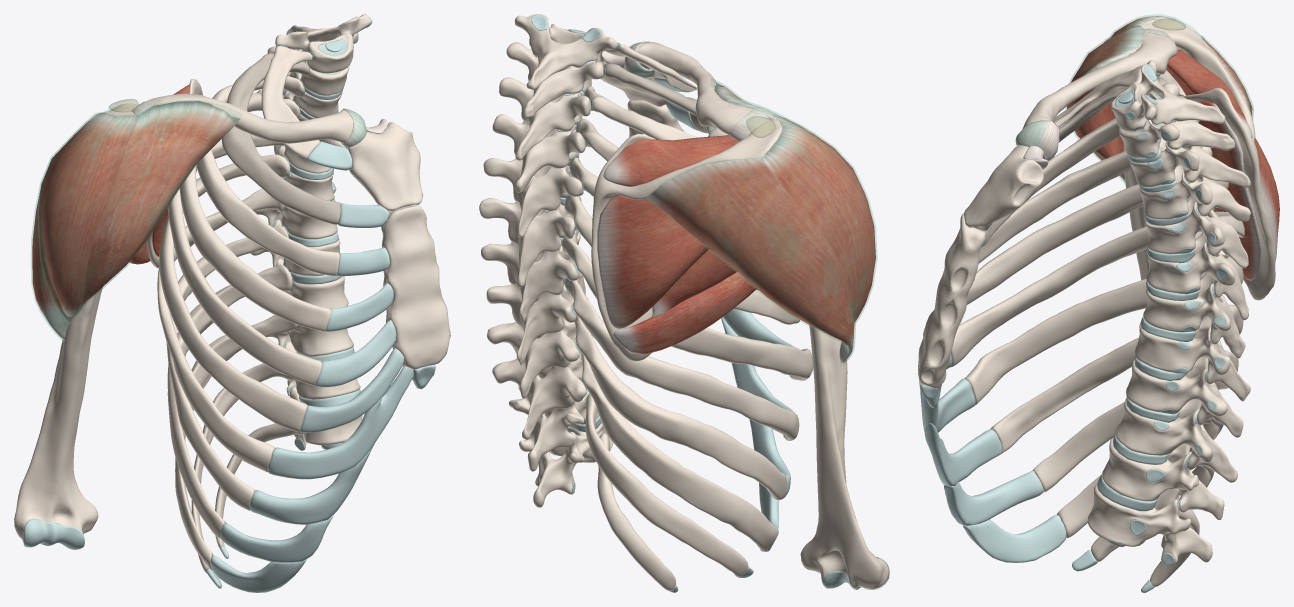
Rendered from open3dmodel-upper-limb-scapulohumeral-muscles.glb.
3 views of the same model, side by side, from view 1: azimuth 30°, elevation 25°; view 2: azimuth 150°, elevation 25°; view 3: azimuth 270°, elevation 25° (orthographic). The views are drawn at different scales.
Parts seen in each view (by area): view 1: Deltoid muscle.r, Humerus.r, Body of sternum, Rib (6th).r, Rib (4th).r, Rib (5th).r, Rib (7th).r, Rib (3rd).r, Rib (2nd).r, Manubrium of sternum, Costal cart of 7th.rib.r, Rib (8th).r (+30 smaller); view 2: Deltoid muscle.r, Humerus.r, Infraspinatus muscle.r, Rib (9th).r, Rib (10th).r, Rib (8th).r, Rib (11th).r, Scapula.r., Teres major muscle.r, Rib (7th).r, Spinal part of deltoid muscle.r, Supraspinatus muscle.r (+29 smaller); view 3: Rib (7th).r, Scapula.r., Rib (6th).r, Body of sternum, Rib (5th).r, Thoracic vertebra (T12), Rib (8th).r, Thoracic vertebra (T10), Thoracic vertebra (T11), Thoracic vertebra (T9), Rib (4th).r, Deltoid muscle.r (+33 smaller).
Boxes of the visible parts, x1=… form: Deltoid muscle.r: x1=32, y1=101, x2=239, y2=340; Humerus.r: x1=14, y1=287, x2=102, y2=541; Body of sternum: x1=381, y1=205, x2=450, y2=369; Rib (6th).r: x1=159, y1=154, x2=307, y2=432; Rib (4th).r: x1=179, y1=93, x2=331, y2=331; Rib (5th).r: x1=167, y1=134, x2=321, y2=385; Rib (7th).r: x1=157, y1=188, x2=284, y2=472; Rib (3rd).r: x1=196, y1=76, x2=339, y2=275; Rib (2nd).r: x1=221, y1=53, x2=340, y2=224; Manubrium of sternum: x1=347, y1=122, x2=422, y2=211; Costal cart of 7th.rib.r: x1=268, y1=366, x2=414, y2=479; Rib (8th).r: x1=166, y1=225, x2=288, y2=510; Deltoid muscle.r: x1=646, y1=82, x2=875, y2=364; Humerus.r: x1=800, y1=325, x2=888, y2=589; Infraspinatus muscle.r: x1=597, y1=195, x2=709, y2=328; Rib (9th).r: x1=574, y1=315, x2=787, y2=500; Rib (10th).r: x1=580, y1=352, x2=777, y2=551; Rib (8th).r: x1=564, y1=278, x2=799, y2=440; Rib (11th).r: x1=585, y1=394, x2=748, y2=577; Scapula.r.: x1=591, y1=119, x2=782, y2=361; Teres major muscle.r: x1=613, y1=272, x2=756, y2=354; Rib (7th).r: x1=562, y1=234, x2=813, y2=380; Spinal part of deltoid muscle.r: x1=644, y1=158, x2=855, y2=365; Supraspinatus muscle.r: x1=603, y1=135, x2=739, y2=186; Rib (7th).r: x1=964, y1=254, x2=1243, y2=405; Scapula.r.: x1=1142, y1=21, x2=1275, y2=300; Rib (6th).r: x1=950, y1=211, x2=1244, y2=367; Body of sternum: x1=918, y1=213, x2=985, y2=388; Rib (5th).r: x1=966, y1=179, x2=1228, y2=304; Thoracic vertebra (T12): x1=1088, y1=484, x2=1212, y2=566; Rib (8th).r: x1=990, y1=304, x2=1243, y2=453; Thoracic vertebra (T10): x1=1115, y1=398, x2=1237, y2=482; Thoracic vertebra (T11): x1=1102, y1=437, x2=1224, y2=519; Thoracic vertebra (T9): x1=1126, y1=357, x2=1243, y2=437; Rib (4th).r: x1=978, y1=146, x2=1212, y2=263; Deltoid muscle.r: x1=1067, y1=16, x2=1252, y2=181.
Size of the model in its own units: 0.2874 by 0.4006 by 0.2324.
39 materials, 4 textured.
